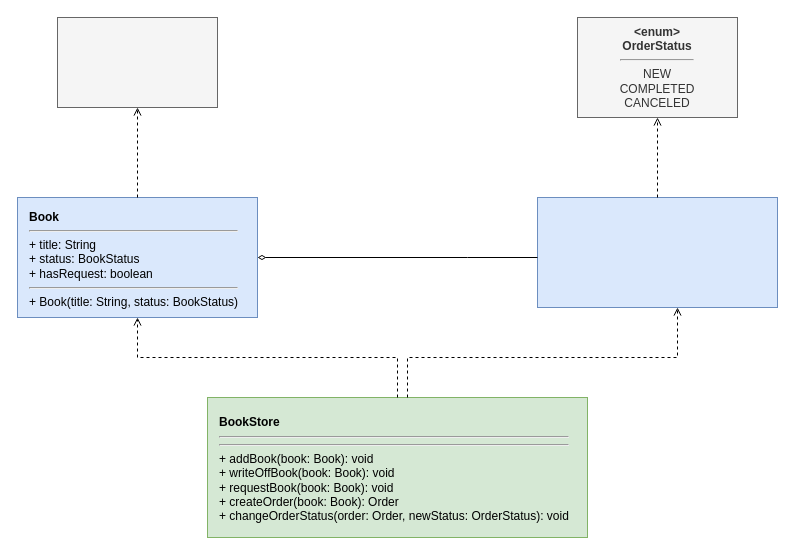
Image size: 795x555. Some labels were removed from this diagram. Each missing label, with the box of its shape:
<enum> BookStatus IN_STOCK OUT_OF_STOCK: (56, 16, 218, 108)
Order + book: Book + status: OrderStatus + Order(book: Book): (536, 196, 778, 308)
